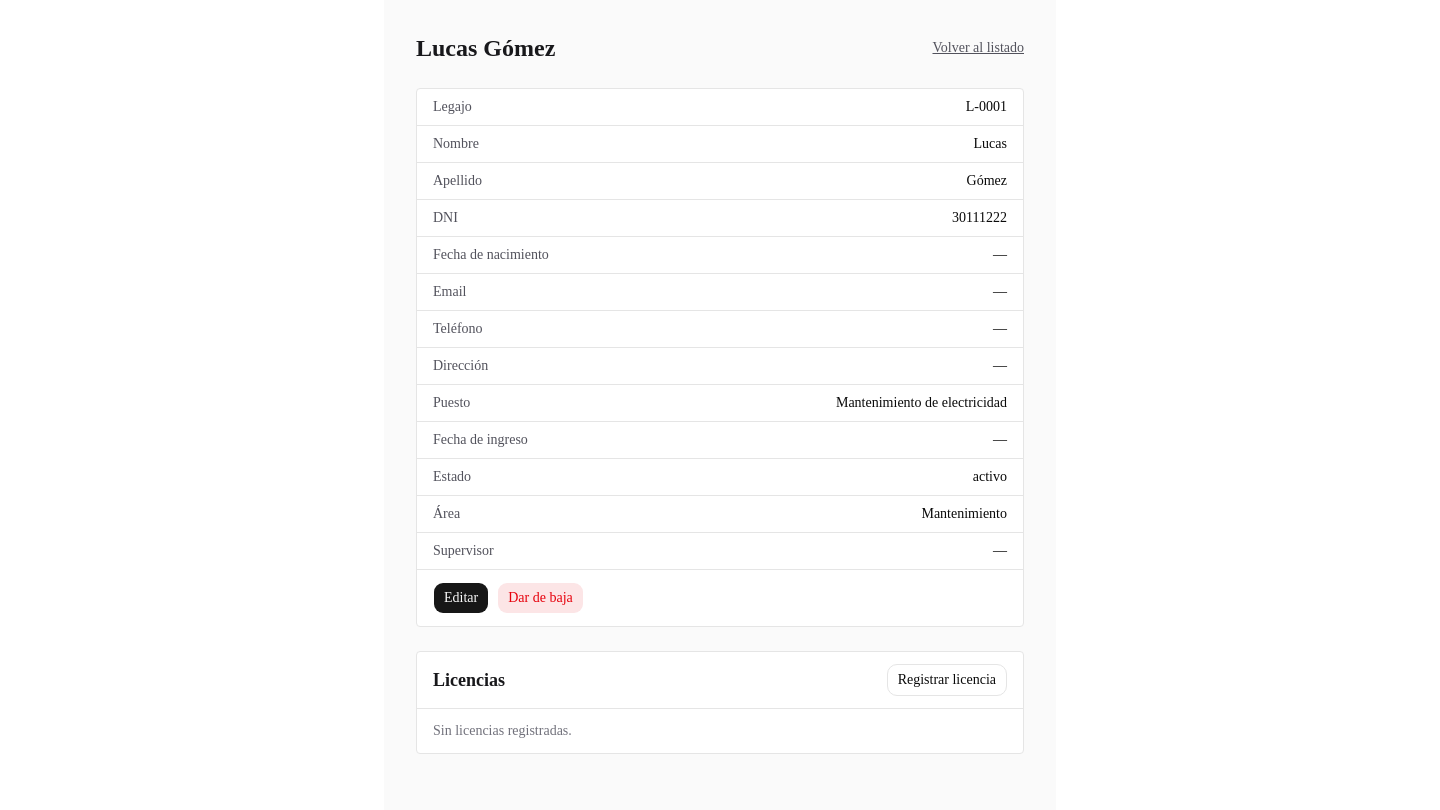
Scenario: FichaEmpleadoPage › da de baja con diálogo de confirmación
Check: the heading "Lucas Gómez" is shown, box [416,32,555,64]
Click the button "Dar de baja" at coordinates (540, 598), box [497,582,584,614]
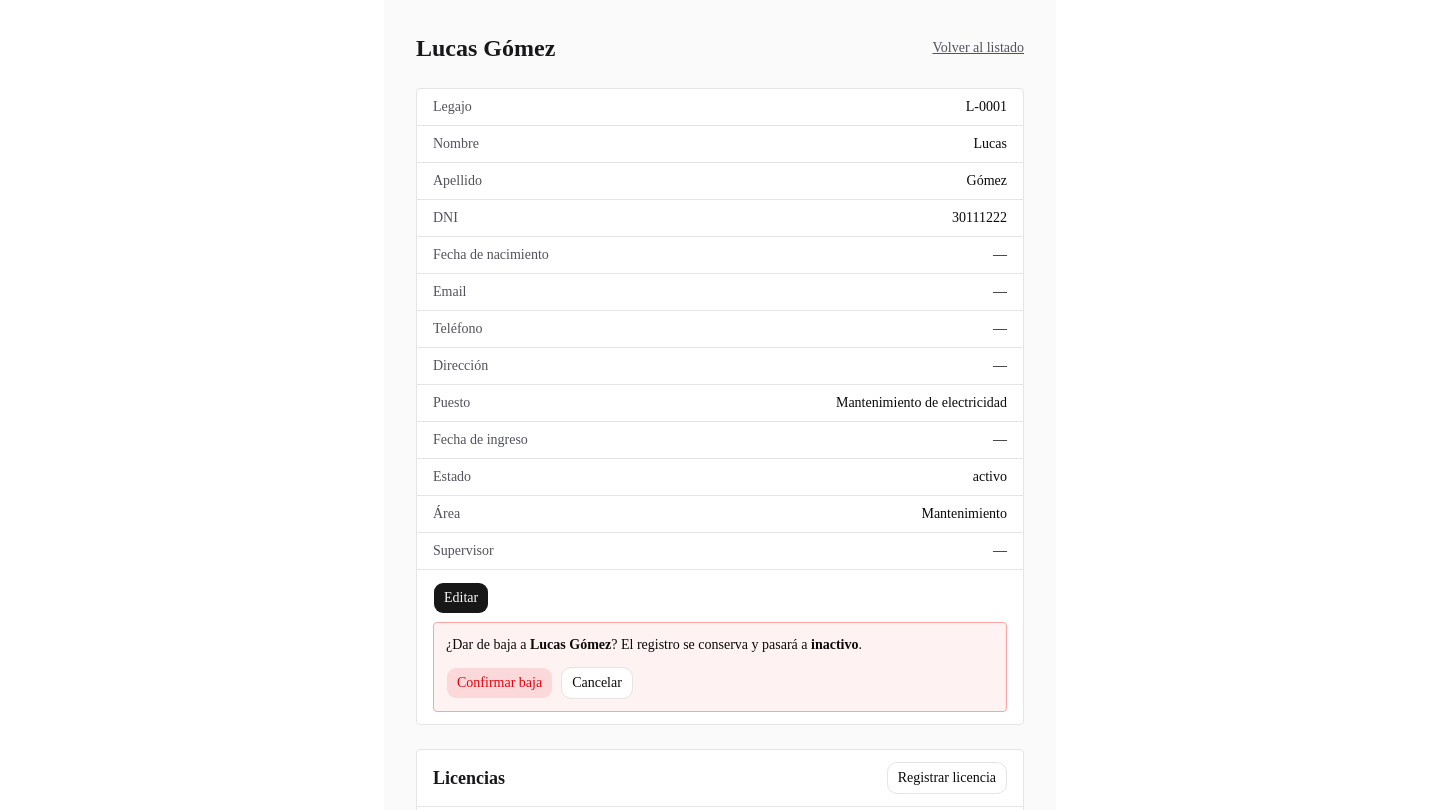
Check: the dialog named "confirmar baja" shows "se conserva", box [611,637,811,652]
Click the button "Cancelar" at coordinates (597, 683), box [561,667,633,699]
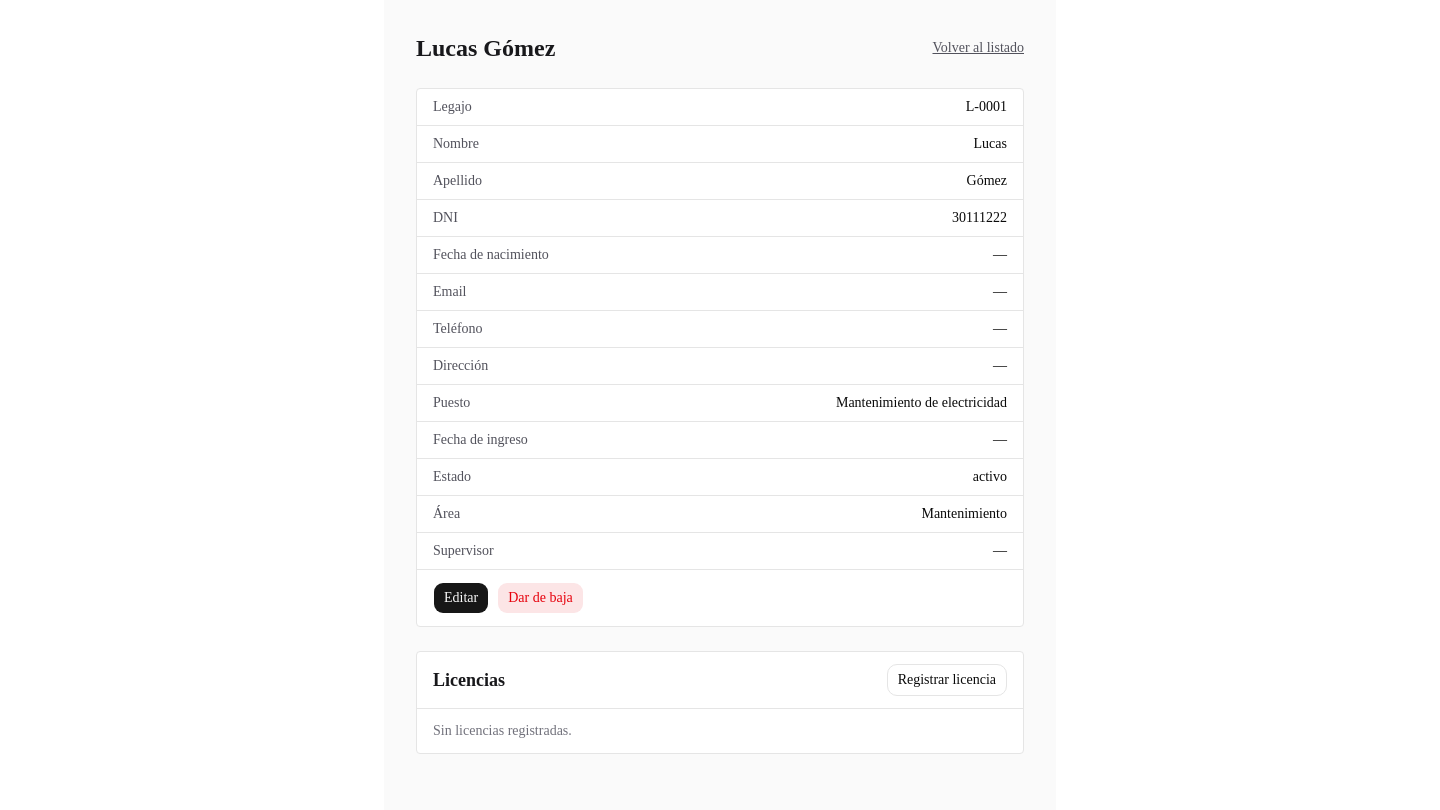
Check: the text "activo" is shown, box [973,467,1007,487]
Check: the dialog is gone
Click the button "Dar de baja" at coordinates (540, 598), box [497,582,584,614]
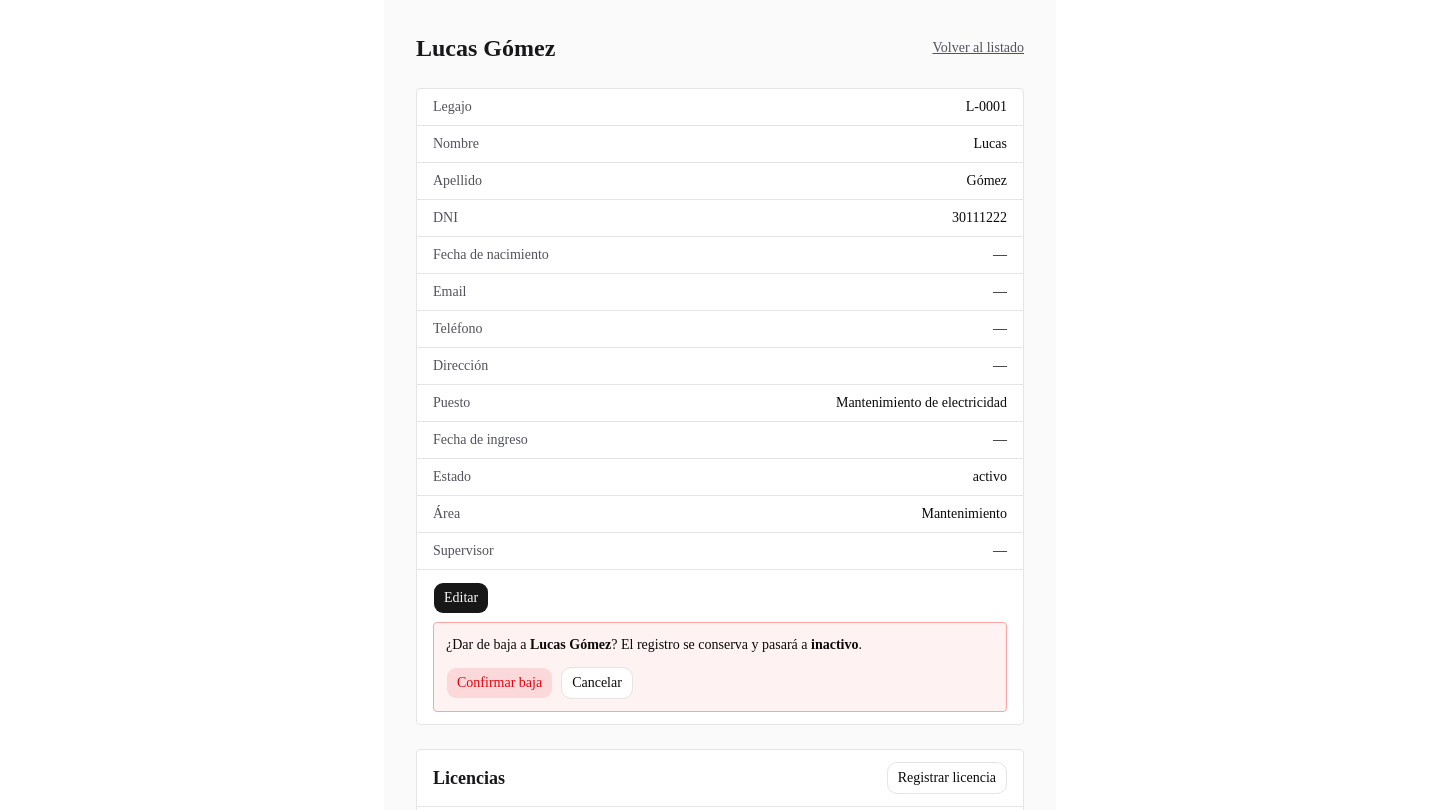
Click the button "Confirmar baja" at coordinates (500, 683), box [446,667,553,699]
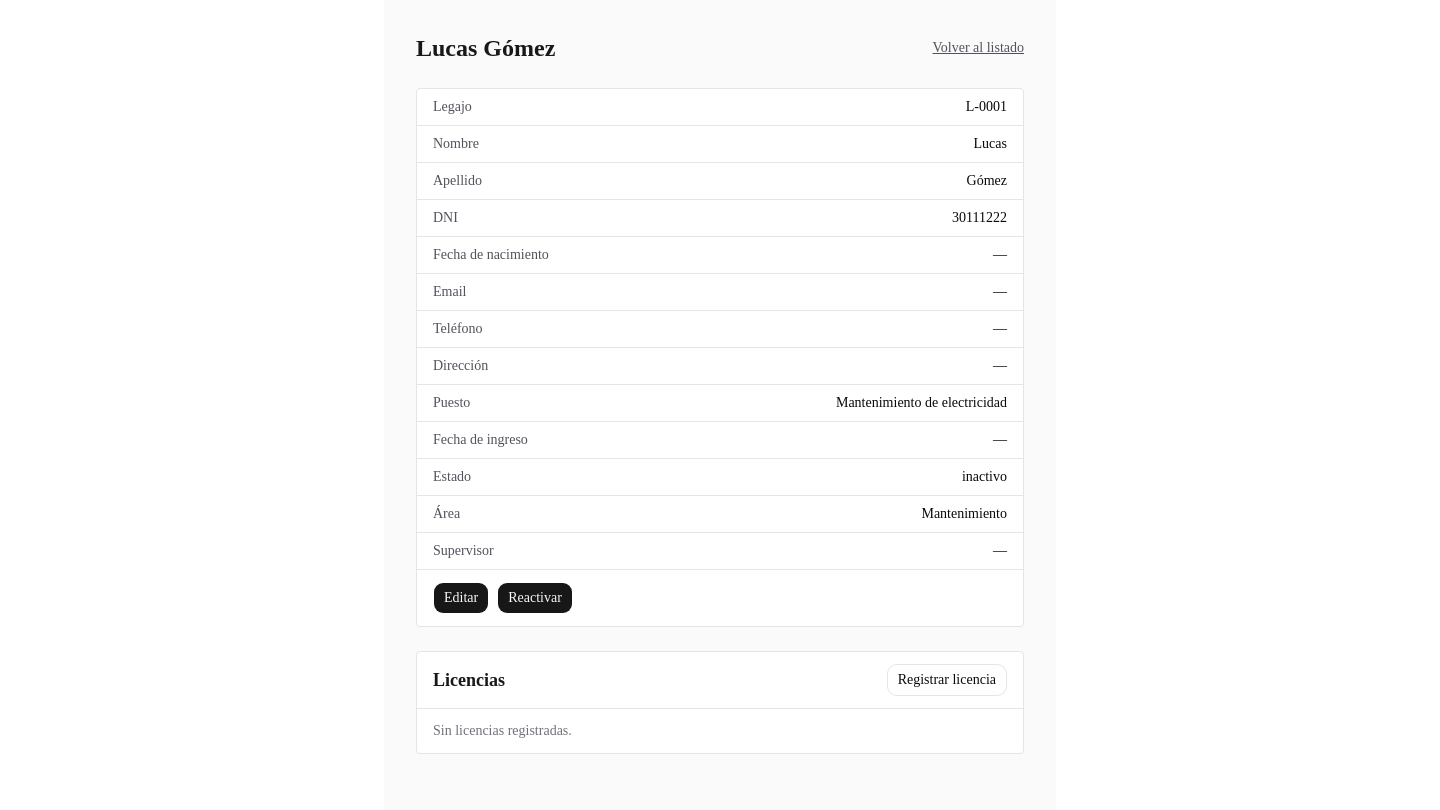
Check: the button "Reactivar" is shown, box [497,582,573,614]
Check: the button "Dar de baja" is gone
Check: the text "inactivo" is shown, box [962,467,1007,487]
